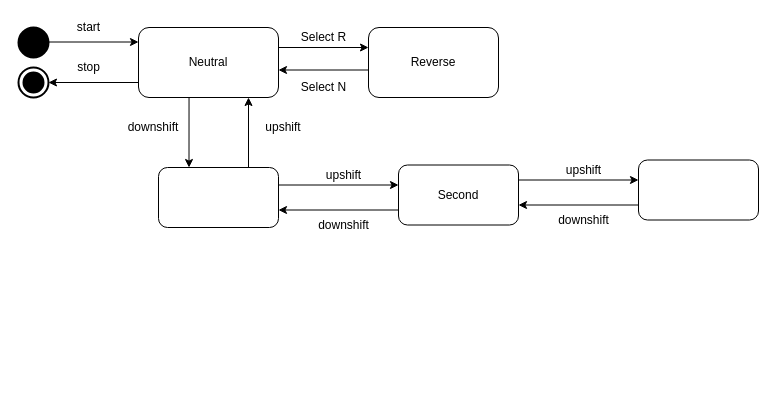
Image size: 776x404. Some labels were removed from this diagram. The centre of each missing label's shape, as x and y in pixels:
"First" belongs at (x=218, y=197).
"Third" belongs at (x=698, y=189).
